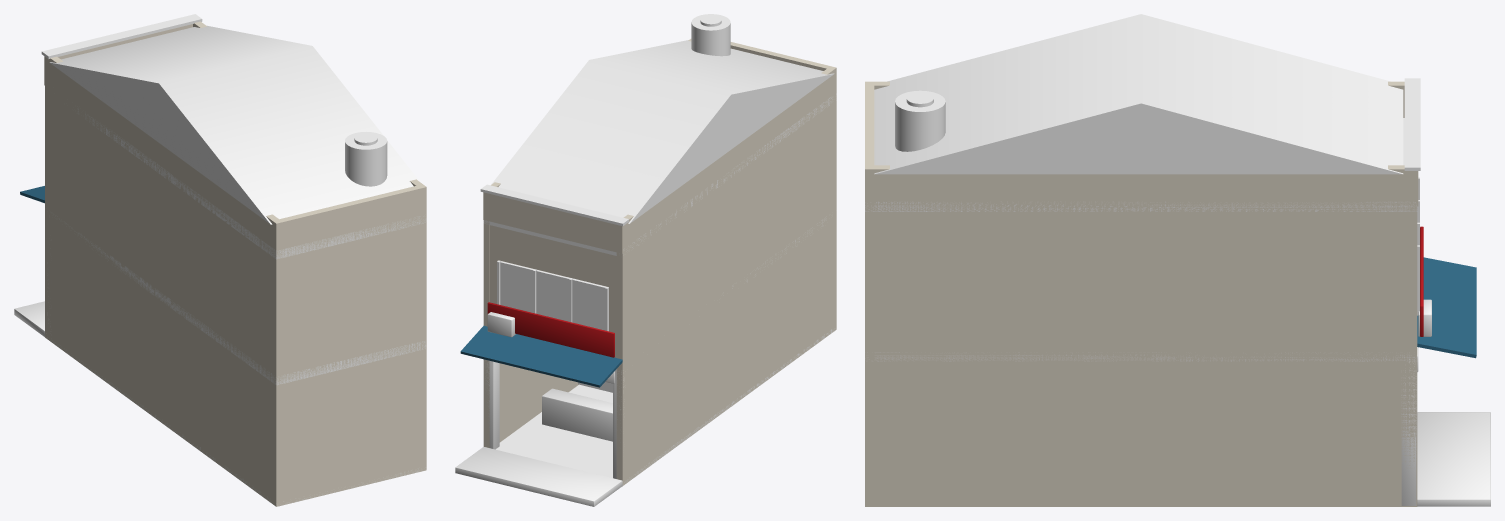
File: Ruko_A.fbx
The picture shows the model from 3 angles, left to right: view 1: azimuth 30°, elevation 25°; view 2: azimuth 150°, elevation 25°; view 3: azimuth 270°, elevation 25°; orthographic projection. The views are drawn at different scales.
Parts seen in each view (by area): view 1: Ruko_A_Mesh; view 2: Ruko_A_Mesh; view 3: Ruko_A_Mesh.
Part boxes in pixels (x1,y1,x2,y2): Ruko_A_Mesh: [14, 14, 426, 506]; Ruko_A_Mesh: [455, 14, 836, 506]; Ruko_A_Mesh: [865, 14, 1490, 506].
Size of the model in its own units: 4.6 by 9.7 by 13.6.
